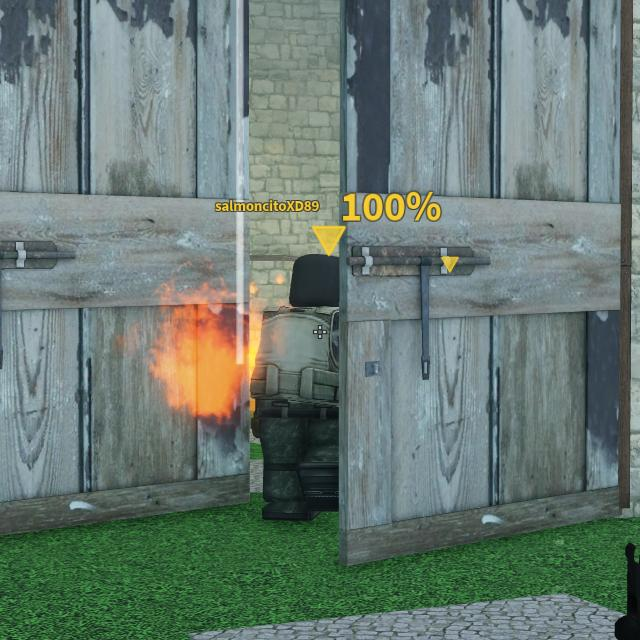Head: (290, 254, 341, 306)
Player: (251, 255, 342, 523)
